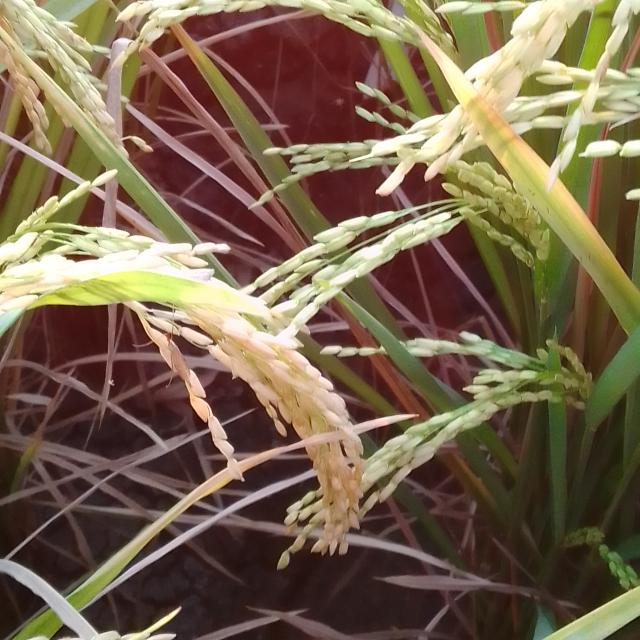Brown spot: (401, 10, 510, 140), (551, 176, 623, 278), (483, 140, 551, 190)
green leaf hopper: (126, 298, 208, 398)
insects: (524, 186, 554, 218), (573, 250, 596, 266)
